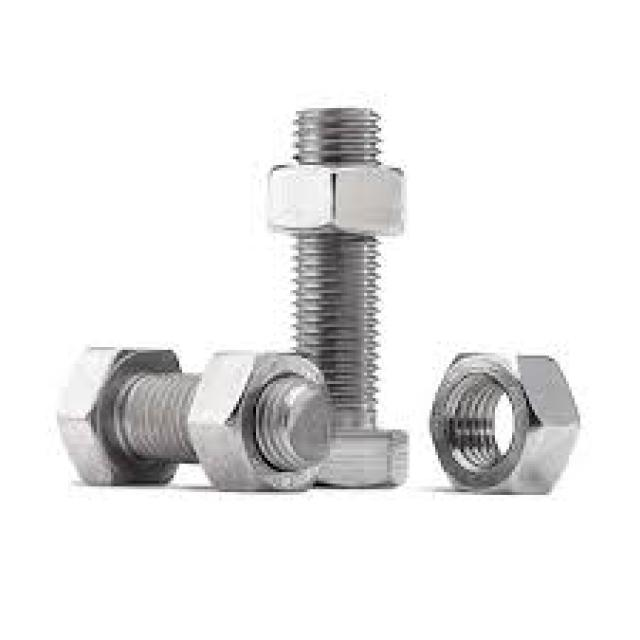metal: (282, 105, 407, 484), (54, 342, 336, 490), (427, 347, 578, 495), (191, 350, 327, 492), (264, 159, 404, 236)
